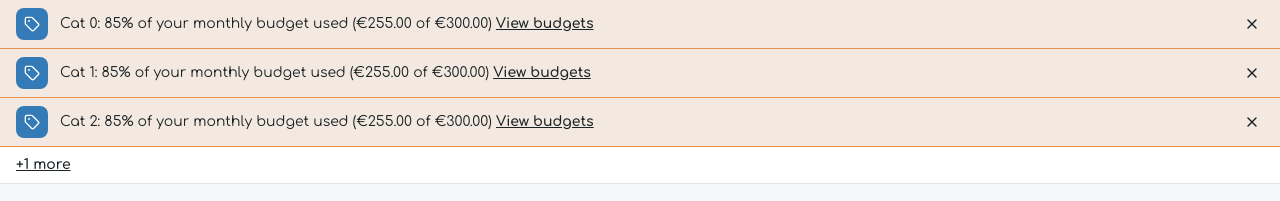
Scenario: BudgetAlerts › brings the next alert up after a dismissal
Click the button named "Dismiss alert for Cat 0". click: x=1252, y=24
box: [1232,4,1272,44]
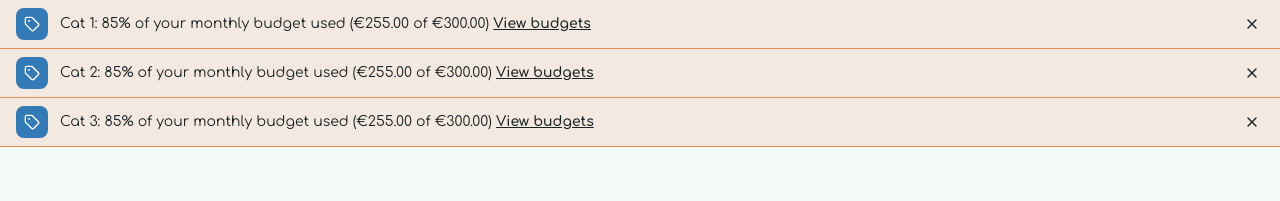
expect the number of messages is 3: met, box [0,0,1279,49]; [0,49,1279,98]; [0,98,1279,147]
expect the text "Cat 3:" is shown: met, box [60,114,492,129]
expect the link "more" is gone: met
